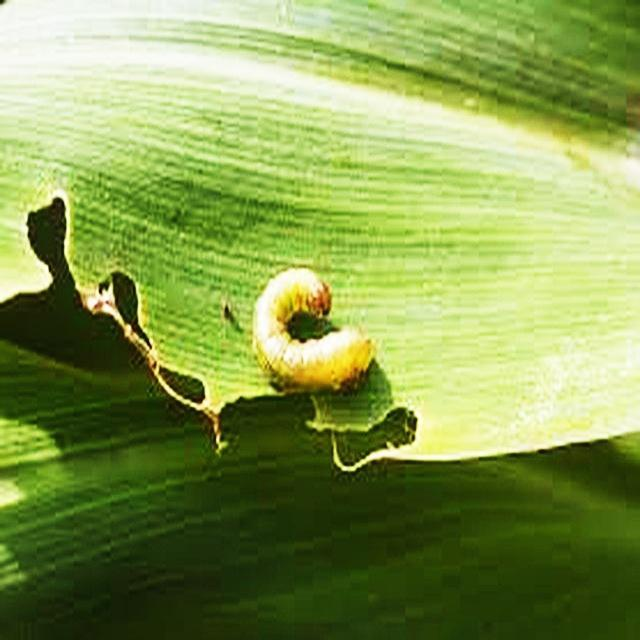Plaga: (249, 265, 377, 400)
